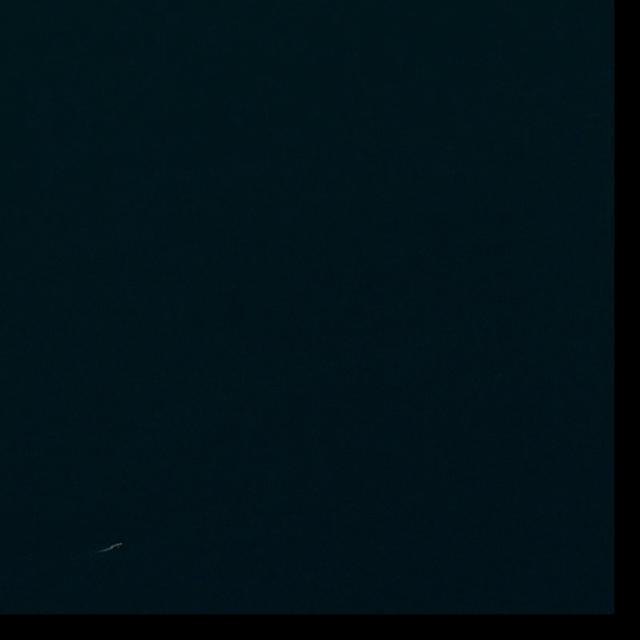ship: (111, 543, 123, 548)
